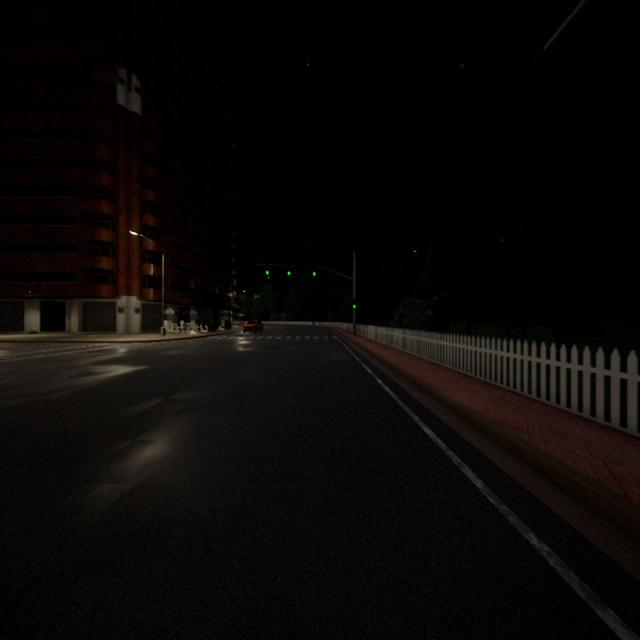Vehicle: (242, 319, 264, 334)
traffic_light: (265, 265, 270, 275), (352, 298, 356, 309), (312, 267, 316, 277), (287, 267, 291, 276)
